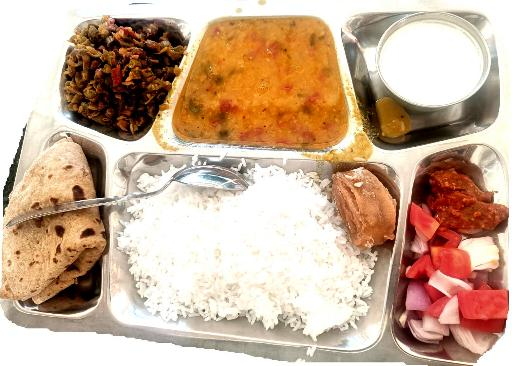Curd: (374, 13, 504, 110)
Dal: (192, 20, 349, 148)
Pickle: (425, 161, 512, 219)
Rice: (118, 156, 391, 346)
Roti: (1, 133, 111, 329)
Salad: (402, 230, 507, 346)
Sweet: (328, 170, 396, 247)
Vegetable: (61, 19, 179, 129)
